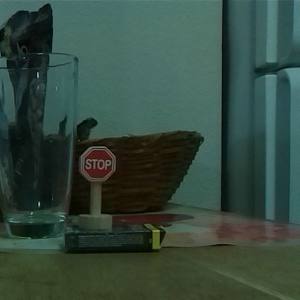stop sign: (75, 142, 119, 232)
